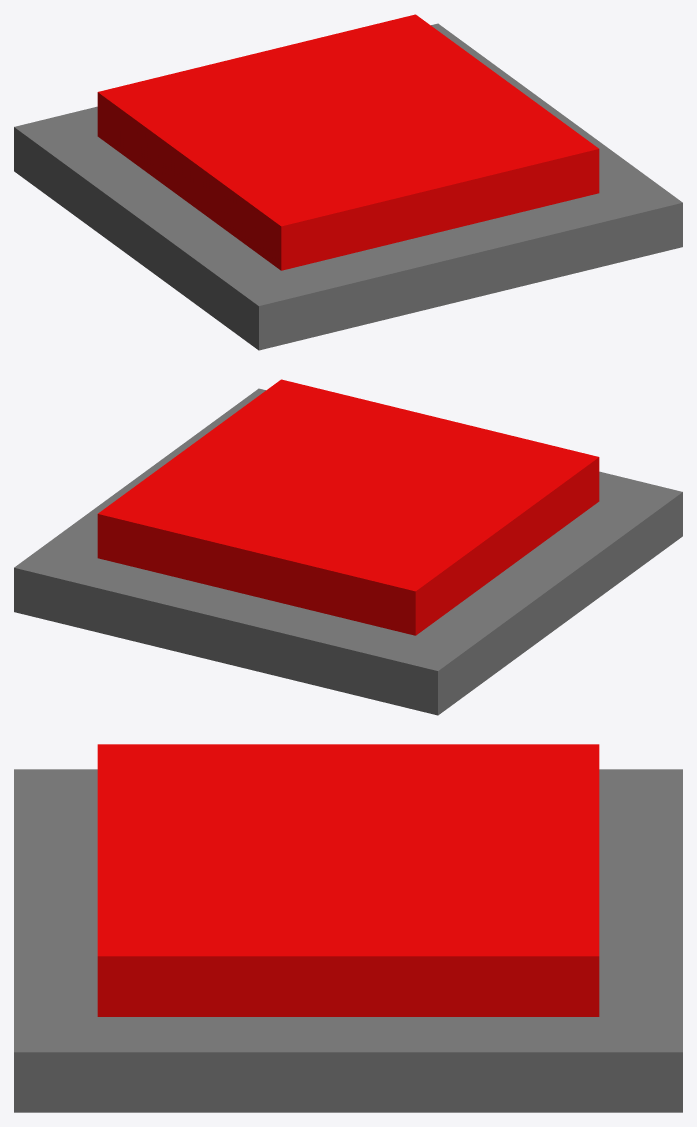
The model's file is Button.FBX.
3 renders of one model, top to bottom at view 1: azimuth 30°, elevation 25°; view 2: azimuth 150°, elevation 25°; view 3: azimuth 270°, elevation 25°, orthographic. The views are drawn at different scales.
Visible parts, largest first — view 1: Box002, Box001; view 2: Box002, Box001; view 3: Box002, Box001.
Part boxes in pixels (x1,y1,x2,y2): Box002: [97, 14, 599, 270]; Box001: [14, 23, 682, 350]; Box002: [97, 379, 599, 635]; Box001: [14, 388, 682, 715]; Box002: [97, 744, 599, 1016]; Box001: [14, 769, 682, 1112].
Size of the model in its own units: 20 by 4 by 20.
